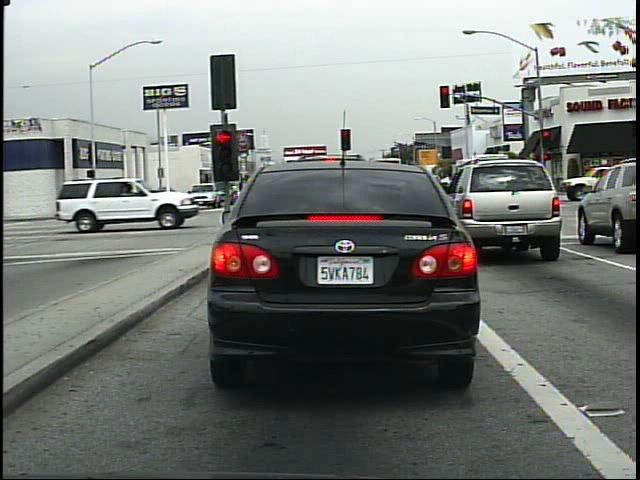person: (103, 183, 125, 217)
